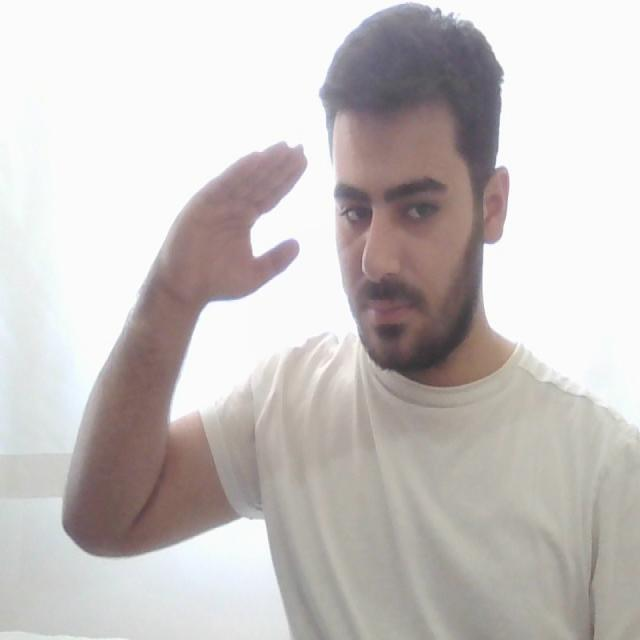Merhaba: (157, 101, 375, 354)
